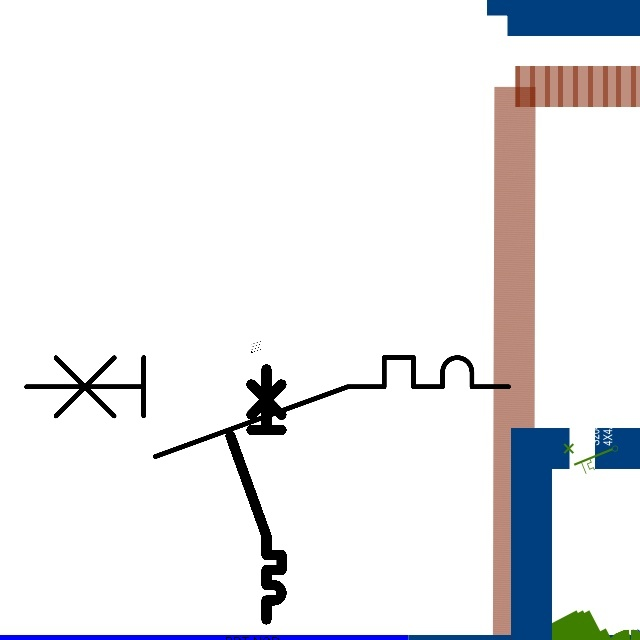interruptor_termomagnetico: (14, 345, 521, 469), (224, 362, 288, 625)
